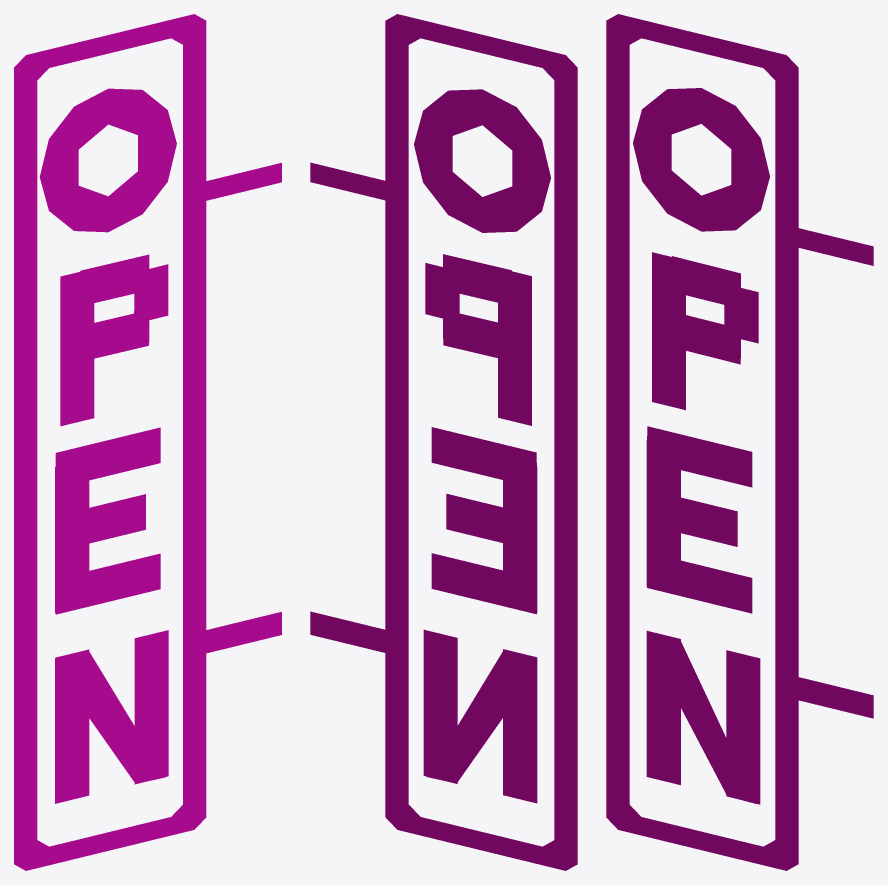
The model's file is NeonSign_Open.fbx.
3 views of the same model, side by side, from view 1: azimuth 30°, elevation 25°; view 2: azimuth 150°, elevation 25°; view 3: azimuth 330°, elevation 25° (orthographic).
Parts seen in each view (by area): view 1: OpenSign; view 2: OpenSign; view 3: OpenSign.
Boxes of the visible parts, bbox=[...] form: OpenSign: bbox=[14, 14, 281, 870]; OpenSign: bbox=[310, 14, 577, 870]; OpenSign: bbox=[606, 14, 873, 870].
Bounding box in the file's own units: 79.16 × 231 × 0.742.
